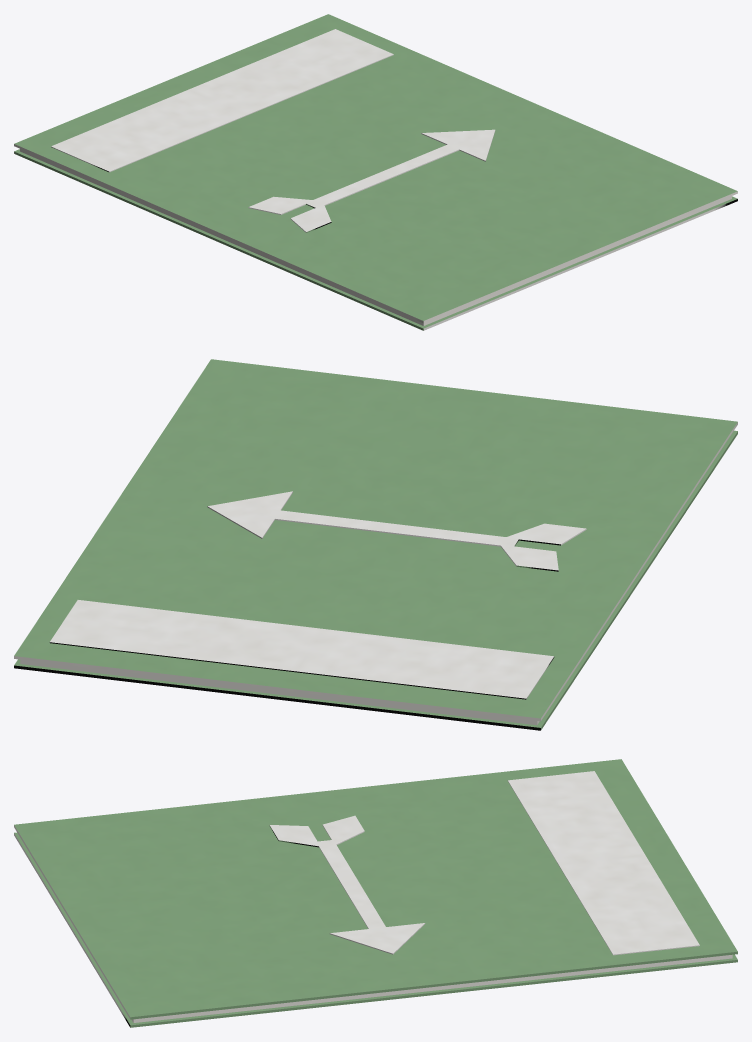
File: FL_ArcheryMag2.fbx
The picture shows the model from 3 angles, top to bottom: view 1: azimuth 30°, elevation 25°; view 2: azimuth 150°, elevation 25°; view 3: azimuth 270°, elevation 25°; orthographic projection. The views are drawn at different scales.
Parts seen in each view (by area): view 1: FL_ArcheryMag2; view 2: FL_ArcheryMag2; view 3: FL_ArcheryMag2.
Boxes of the visible parts, left/top/right/bottom form: FL_ArcheryMag2: left=14, top=14, right=737, bottom=330; FL_ArcheryMag2: left=14, top=359, right=737, bottom=730; FL_ArcheryMag2: left=14, top=759, right=737, bottom=1027.
Bounding box in the file's own units: 0.0227 × 0.000475 × 0.0269.
